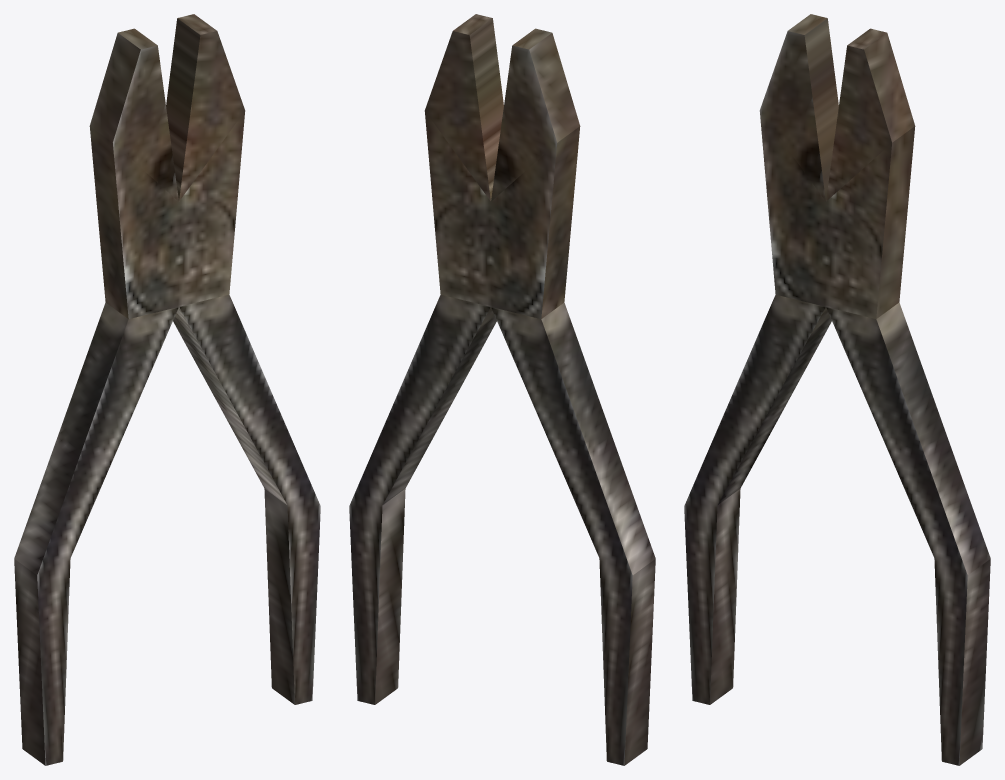
Rendered from tool_heavy_pliers.fbx.
The picture shows the model from 3 angles, left to right: view 1: azimuth 30°, elevation 25°; view 2: azimuth 150°, elevation 25°; view 3: azimuth 330°, elevation 25°; orthographic projection.
Visible parts, largest first — view 1: Plires; view 2: Plires; view 3: Plires.
Part boxes in pixels (bbox=[...]): Plires: bbox=[14, 14, 320, 765]; Plires: bbox=[349, 14, 655, 765]; Plires: bbox=[684, 14, 990, 765].
Size of the model in its own units: 86.93 by 203 by 12.32.
1 material, 1 textured.
